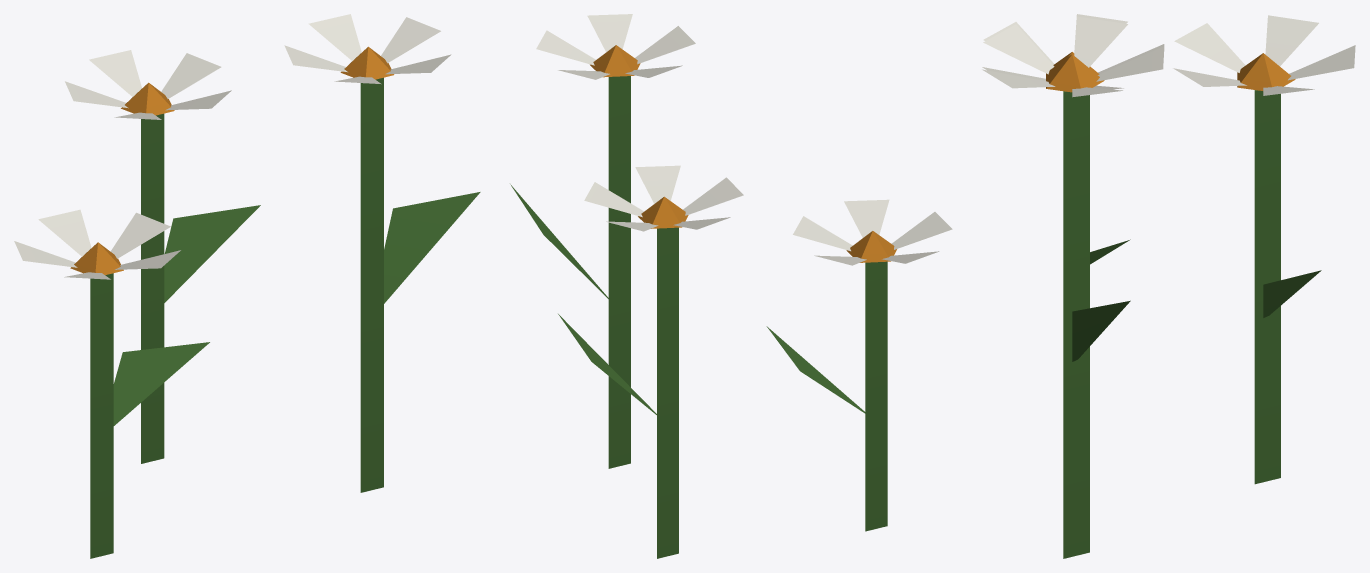
Rendered from flowers_w.glb.
3 renders of one model, left to right at view 1: azimuth 30°, elevation 25°; view 2: azimuth 150°, elevation 25°; view 3: azimuth 270°, elevation 25°, orthographic. The views are drawn at different scales.
Visible parts, largest first — view 1: flowers_w; view 2: flowers_w; view 3: flowers_w.
Boxes of the visible parts, <box> form: flowers_w: <box>14,14,480,558</box>; flowers_w: <box>510,14,952,558</box>; flowers_w: <box>982,14,1355,558</box>.
Size of the model in its own units: 0.4049 by 0.374 by 0.2545.
